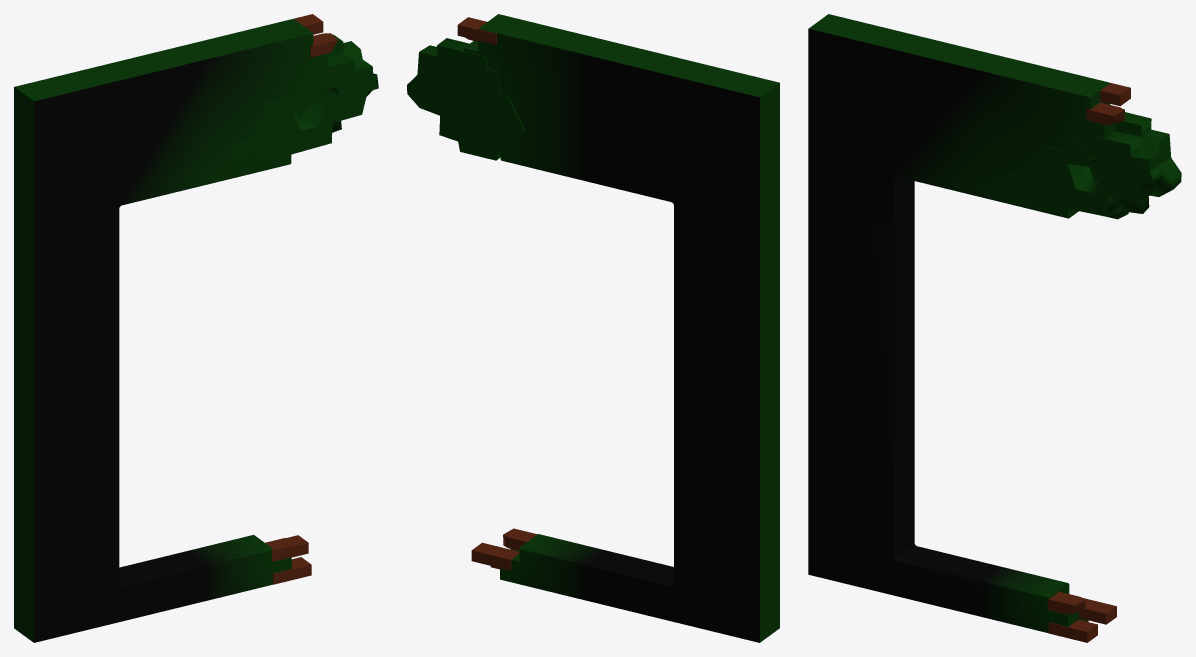
Rendered from DBK_Brick_WinBig_Side.fbx.
3 views of the same model, side by side, from view 1: azimuth 30°, elevation 25°; view 2: azimuth 150°, elevation 25°; view 3: azimuth 330°, elevation 25° (orthographic).
Parts seen in each view (by area): view 1: DBK_Brick_WinBig_Side; view 2: DBK_Brick_WinBig_Side; view 3: DBK_Brick_WinBig_Side.
Boxes of the visible parts, x1=… form: DBK_Brick_WinBig_Side: x1=14, y1=14, x2=378, y2=642; DBK_Brick_WinBig_Side: x1=407, y1=14, x2=779, y2=642; DBK_Brick_WinBig_Side: x1=808, y1=14, x2=1181, y2=642.
Size of the model in its own units: 203 by 300 by 21.44.
